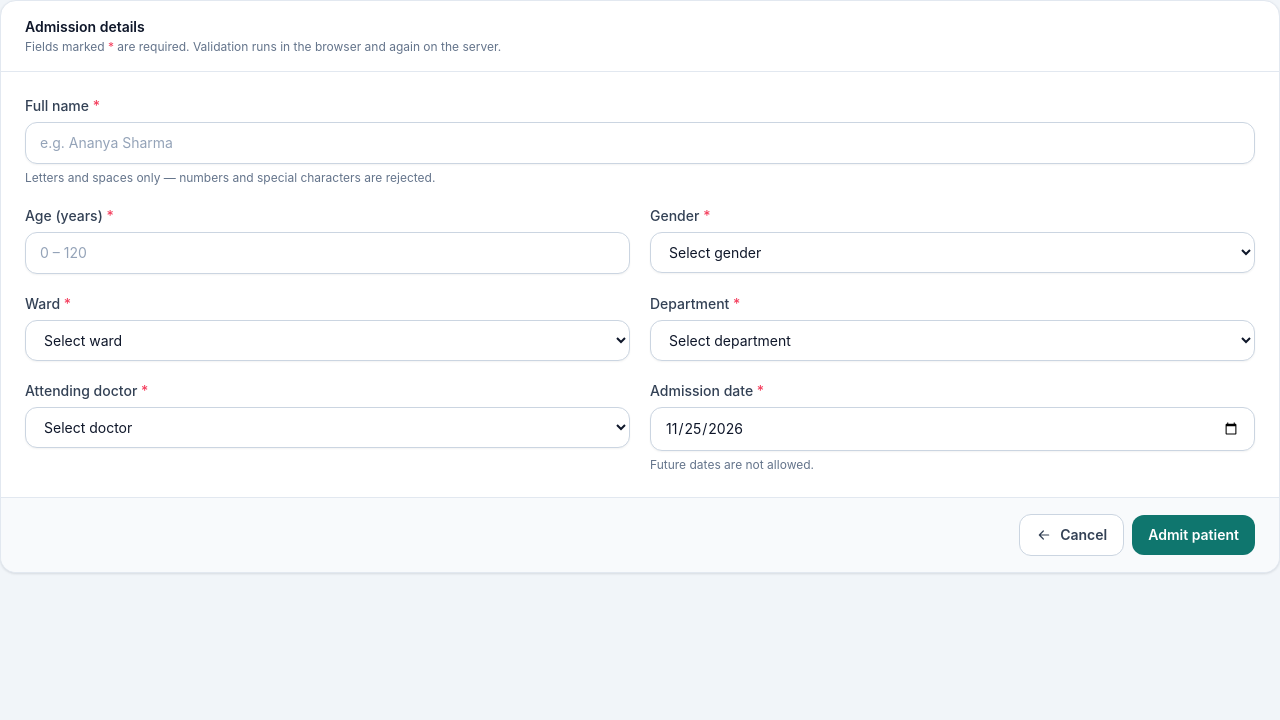
Scenario: PatientForm › blocks submission and shows inline errors for an empty form
Click the button "Admit patient".
click(1194, 535)  # box [1132,515,1255,555]
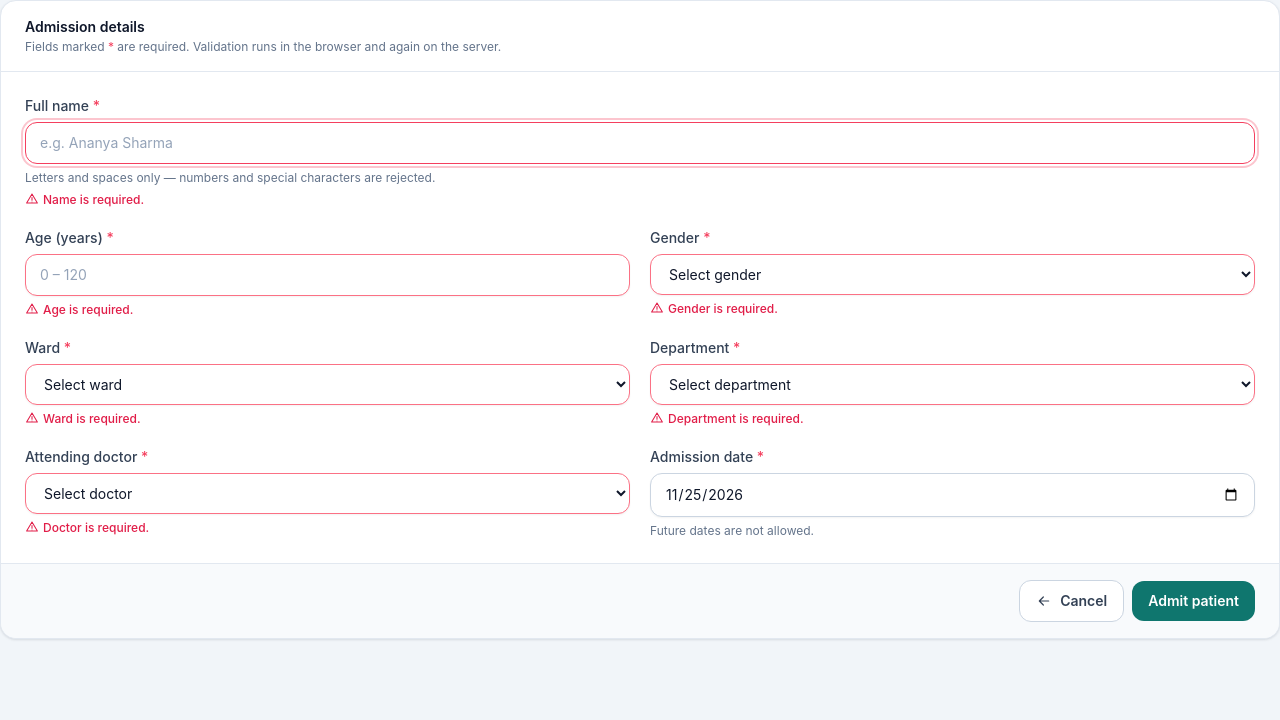
Check: the text "Name is required." is shown, box [43,192,144,208]
Check: the text "Age is required." is shown, box [43,302,133,318]
Check: the text "Gender is required." is shown, box [668,301,778,317]
